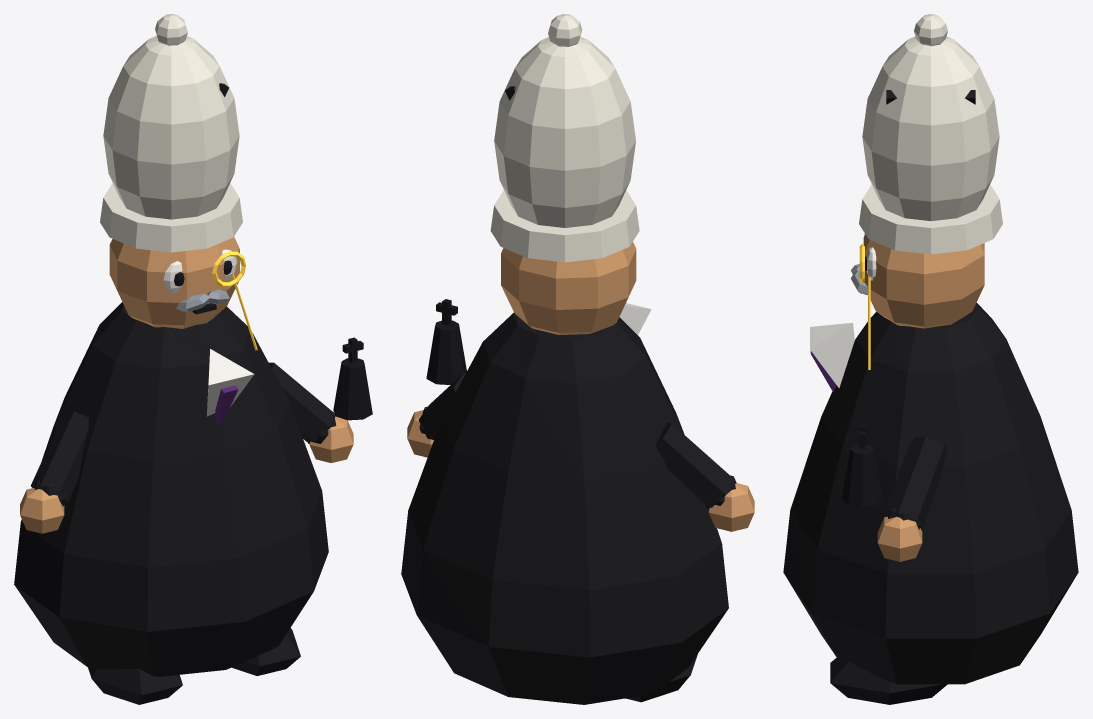
Rendered from npc_alfil.glb.
3 views of the same model, side by side, from view 1: azimuth 30°, elevation 25°; view 2: azimuth 150°, elevation 25°; view 3: azimuth 270°, elevation 25° (orthographic). The views are drawn at different scales.
Parts seen in each view (by area): view 1: body_coat_black, cap_bishop_white, head_skin_arena, arms_coat_black, legs_black, arms_skin_arena, props_king_black, body_white, face_gold, face_hair_gray, face_white; view 2: body_coat_black, cap_bishop_white, head_skin_arena, arms_coat_black, props_king_black, arms_skin_arena, legs_black, body_white; view 3: body_coat_black, cap_bishop_white, head_skin_arena, arms_coat_black, legs_black, props_king_black, body_white, arms_skin_arena, face_gold.
Boxes of the visible parts, x1=… form: body_coat_black: x1=14, y1=302, x2=328, y2=676; cap_bishop_white: x1=100, y1=14, x2=242, y2=252; head_skin_arena: x1=109, y1=236, x2=239, y2=328; arms_coat_black: x1=31, y1=362, x2=336, y2=506; legs_black: x1=88, y1=628, x2=300, y2=704; arms_skin_arena: x1=20, y1=416, x2=353, y2=533; props_king_black: x1=333, y1=337, x2=372, y2=420; body_white: x1=207, y1=349, x2=254, y2=416; face_gold: x1=212, y1=251, x2=257, y2=350; face_hair_gray: x1=176, y1=289, x2=229, y2=311; face_white: x1=163, y1=249, x2=237, y2=292; body_coat_black: x1=401, y1=312, x2=728, y2=704; cap_bishop_white: x1=490, y1=14, x2=639, y2=262; head_skin_arena: x1=501, y1=242, x2=636, y2=334; arms_coat_black: x1=418, y1=373, x2=736, y2=509; props_king_black: x1=426, y1=299, x2=466, y2=384; arms_skin_arena: x1=407, y1=410, x2=754, y2=531; legs_black: x1=625, y1=654, x2=697, y2=702; body_white: x1=619, y1=303, x2=651, y2=334; body_coat_black: x1=783, y1=302, x2=1078, y2=684; cap_bishop_white: x1=859, y1=14, x2=1002, y2=254; head_skin_arena: x1=863, y1=234, x2=984, y2=328; arms_coat_black: x1=885, y1=437, x2=946, y2=529; legs_black: x1=830, y1=657, x2=947, y2=704; props_king_black: x1=841, y1=424, x2=882, y2=507; body_white: x1=810, y1=322, x2=854, y2=388; arms_skin_arena: x1=877, y1=516, x2=922, y2=561; face_gold: x1=859, y1=244, x2=870, y2=369.
Size of the model in its own units: 1.13 by 2.1 by 0.86.
